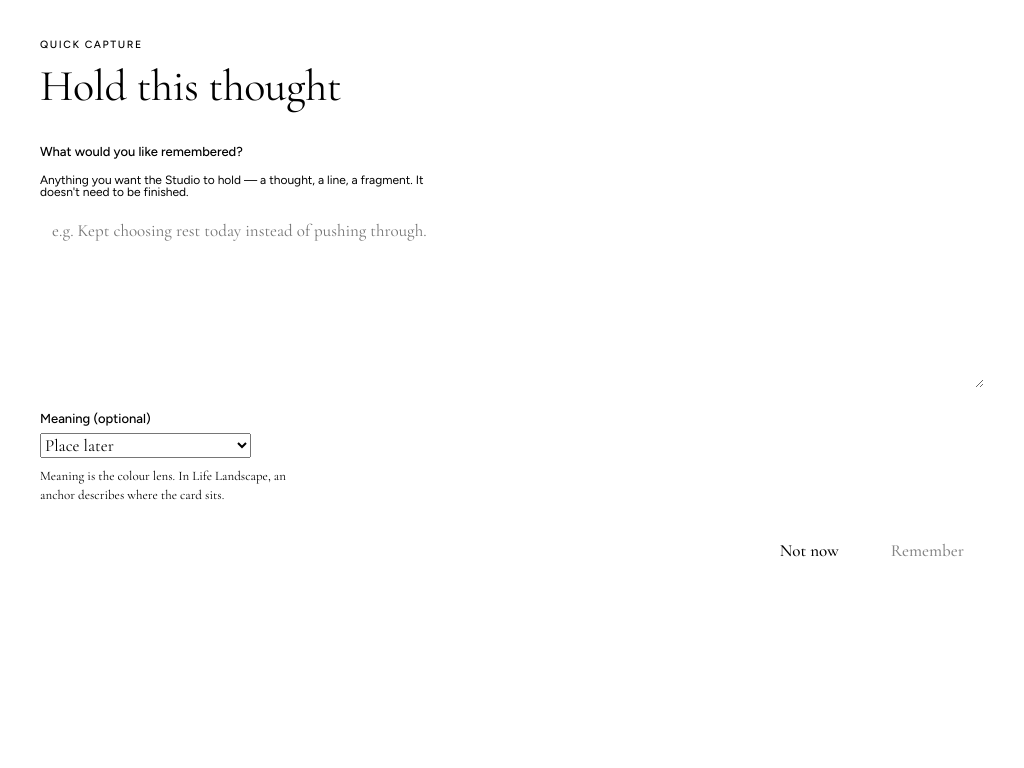
Test: keeps the thought visible and explains when local storage is unavailable
Type "Keep me safe" into the text box labelled "What would you like remembered?" at (512, 297), box [40,206,984,388]
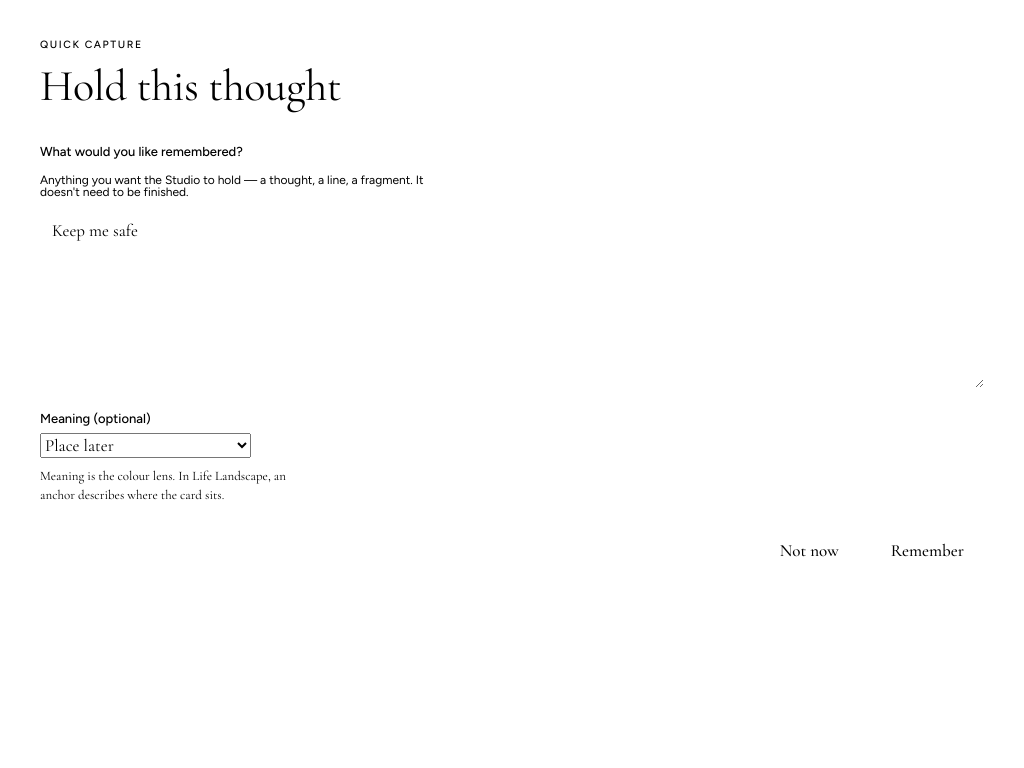
Click the button "Remember" at (927, 551), box [871,529,984,573]
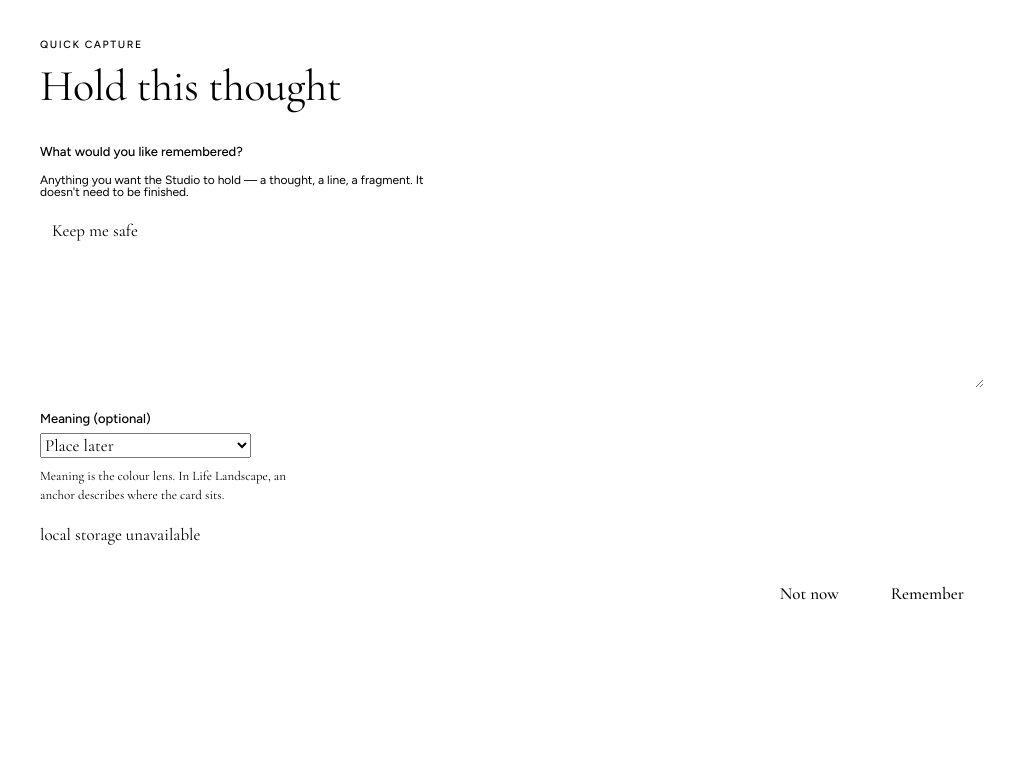
Expected: the message reads "local storage unavailable", [40,524,200,545]
